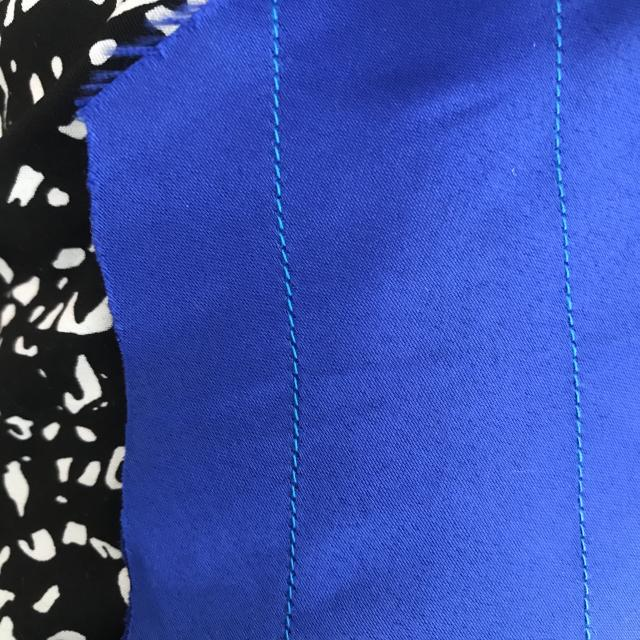good: (547, 314, 610, 628), (544, 21, 586, 298), (276, 326, 318, 594), (260, 104, 308, 307)
